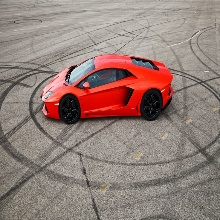no damage: (39, 53, 175, 124)
